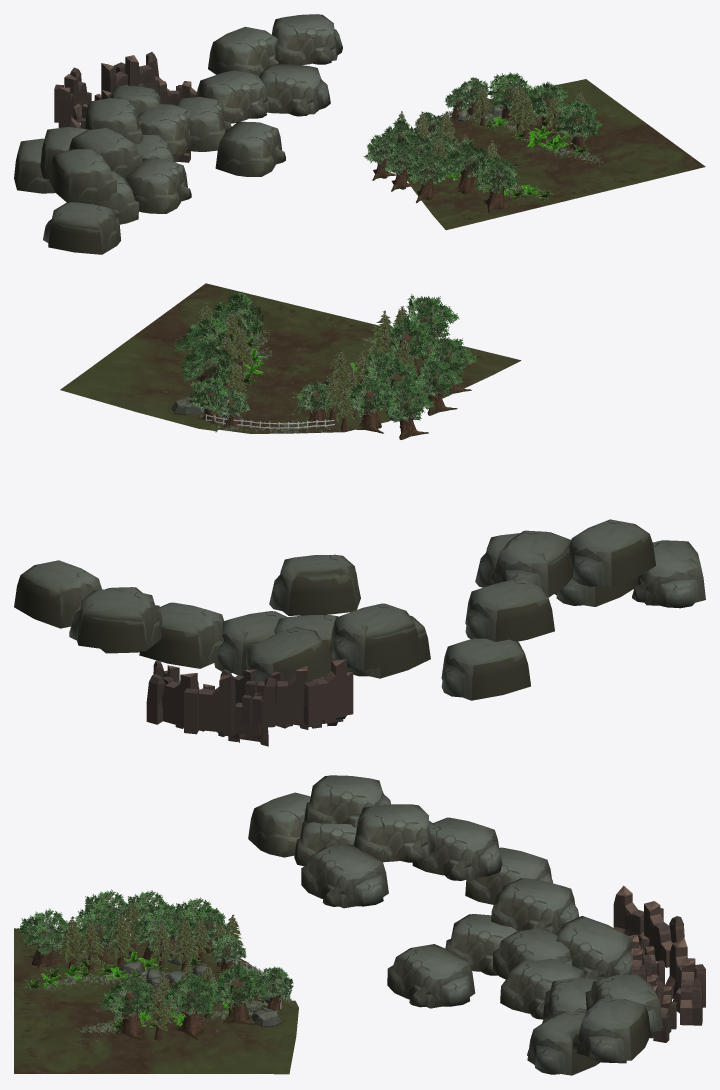
The model's file is hpEnv 1.fbx.
3 views of the same model, one above another, from view 1: azimuth 30°, elevation 25°; view 2: azimuth 150°, elevation 25°; view 3: azimuth 270°, elevation 25° (orthographic). The views are drawn at different scales.
Visible parts, largest first — view 1: Cube.021, Plane, Cube.041, Cylinder.002, Cylinder.027, Plane.663; view 2: Cube.021, Cube.041, Plane, Cylinder.002, Cylinder.027, Plane.1825; view 3: Cube.021, Cube.041, Plane, Cylinder.002, Cylinder.027, Plane.663.
Part boxes in pixels (box(x1,y1,x2,y2)): Cube.021: box(54, 14, 342, 176); Plane: box(407, 79, 705, 230); Cube.041: box(14, 127, 191, 254); Cylinder.002: box(363, 111, 553, 213); Cylinder.027: box(444, 72, 602, 155); Plane.663: box(456, 113, 595, 193); Cube.021: box(14, 554, 430, 746); Cube.041: box(441, 519, 705, 700); Plane: box(60, 283, 521, 433); Cylinder.002: box(292, 294, 477, 439); Cylinder.027: box(171, 291, 268, 427); Plane.1825: box(206, 330, 323, 433); Cube.021: box(387, 878, 705, 1075); Cube.041: box(248, 775, 552, 908); Plane: box(14, 928, 298, 1074); Cylinder.002: box(17, 889, 253, 990); Cylinder.027: box(100, 961, 293, 1040); Plane.663: box(44, 959, 278, 1034).
Size of the model in its own units: 4677 by 1388 by 4566.
